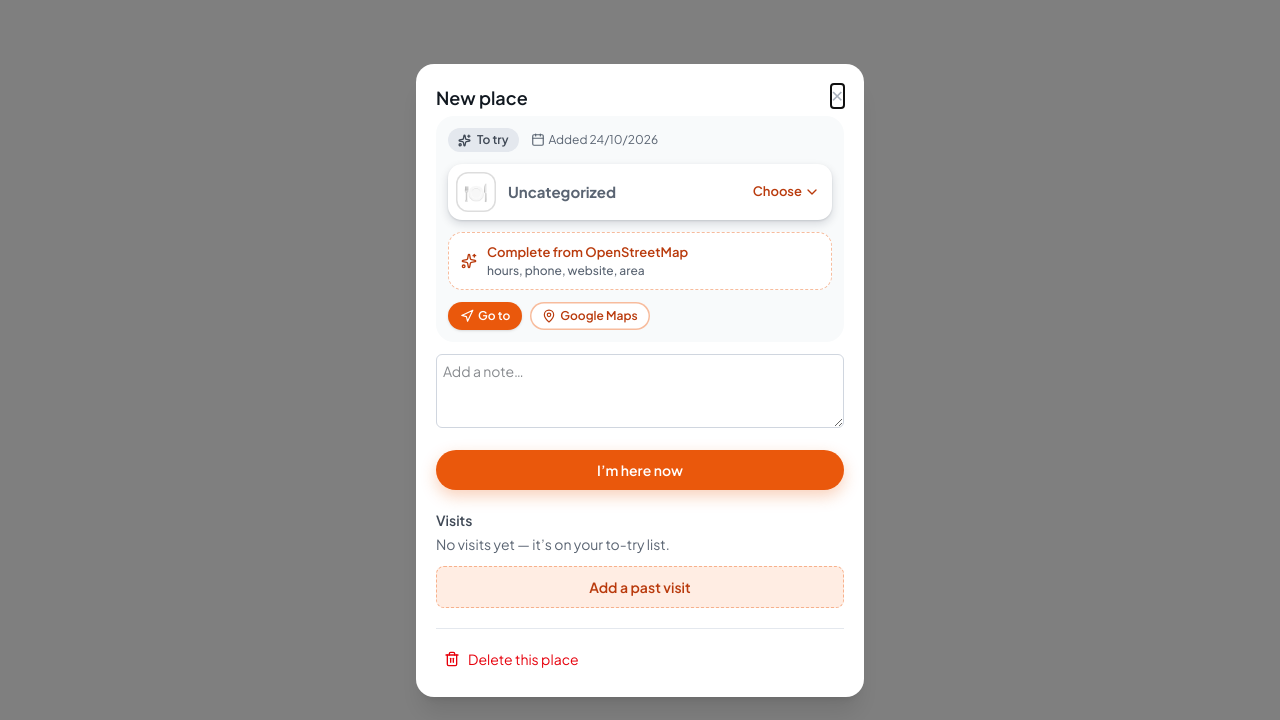
Test case: RestaurantDetail › requires a date again once "I don't remember when" is turned off
Step 1. Click the heading "Add a past visit" → {"x": 640, "y": 586}, box left=589, top=578, right=691, bottom=596
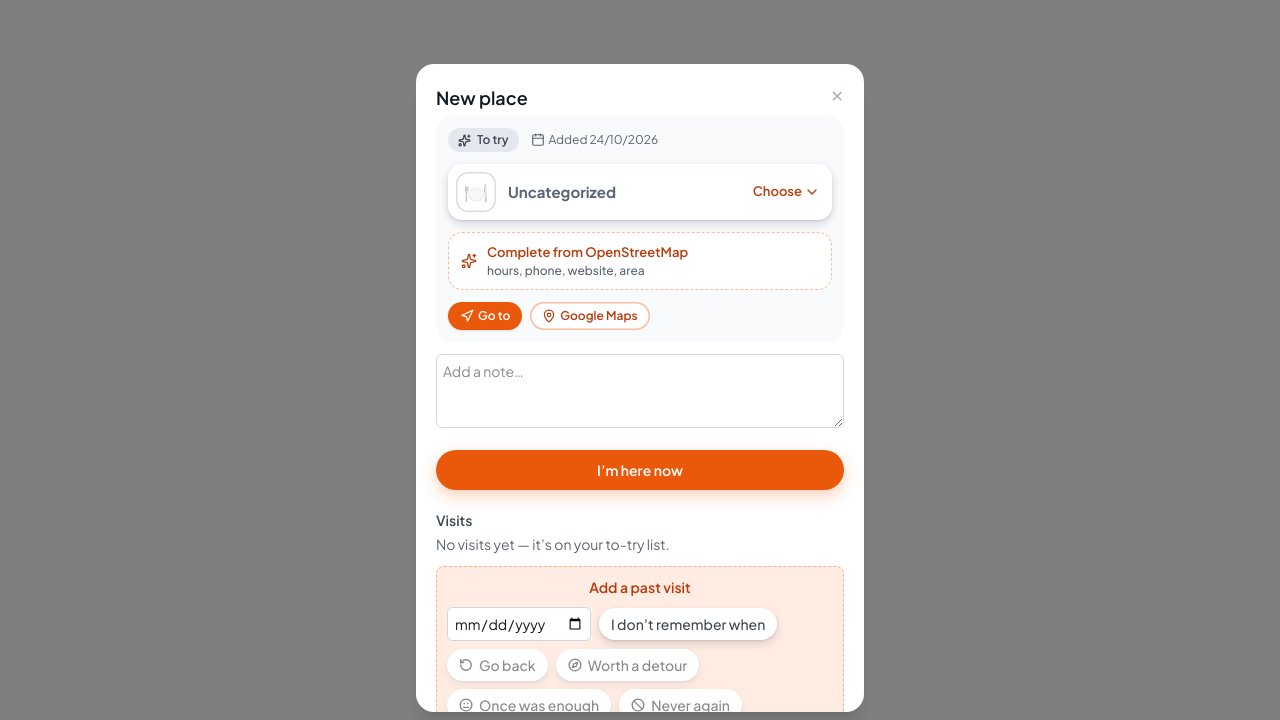
Step 2. Type "2026-01-15" into the date field named "Visit date" → {"x": 519, "y": 624}, box left=447, top=606, right=591, bottom=640
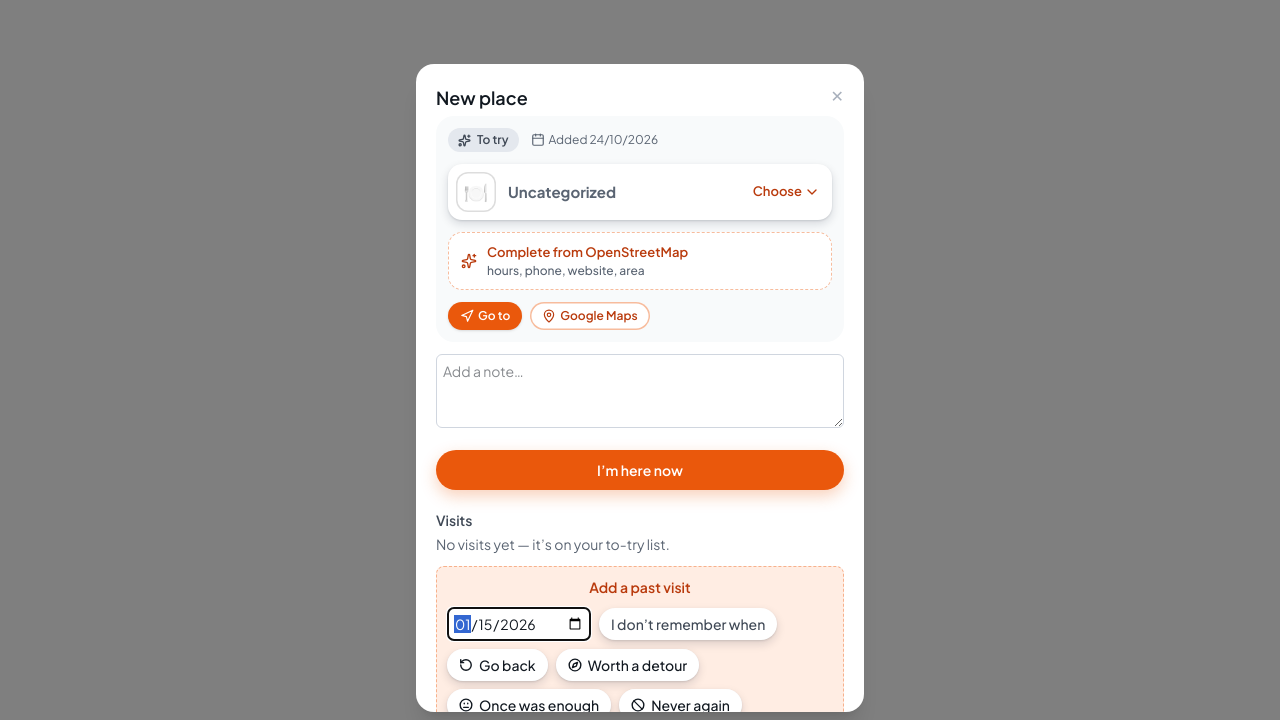
Step 3. Click the button "I don’t remember when" → {"x": 688, "y": 624}, box left=599, top=608, right=777, bottom=640
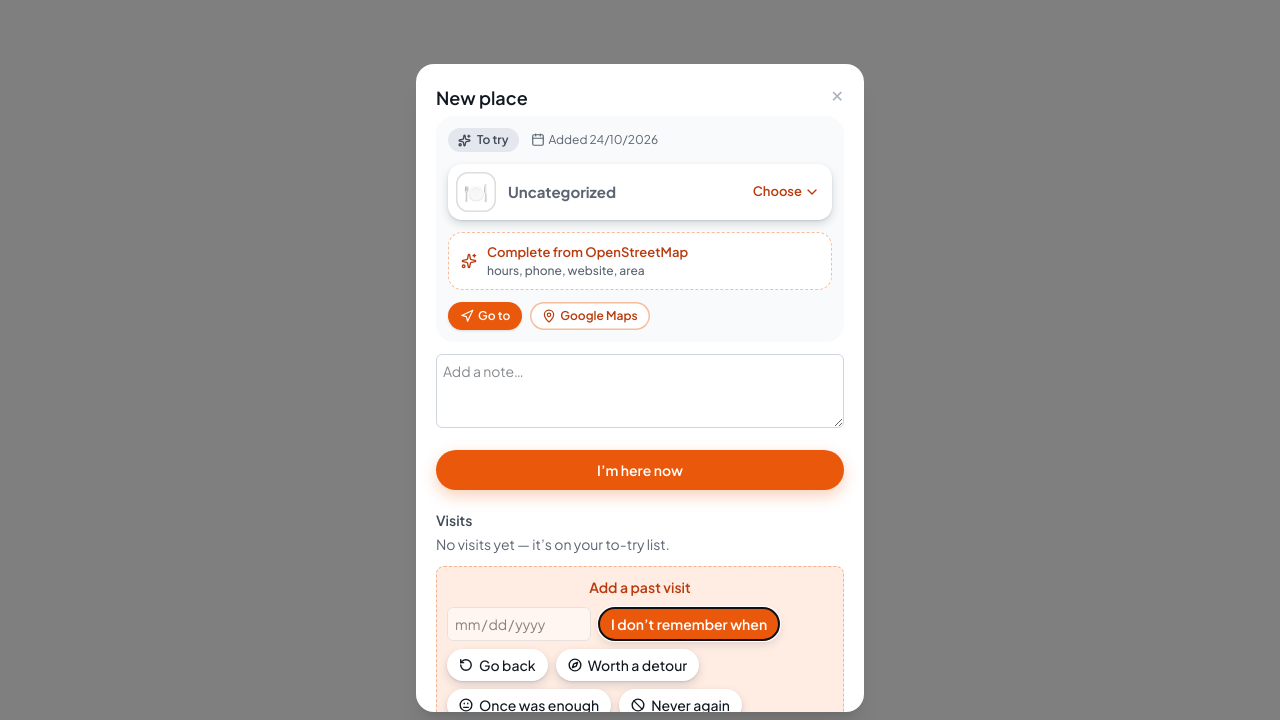
Step 4. Click the button "I don’t remember when" → {"x": 689, "y": 624}, box left=599, top=608, right=779, bottom=640
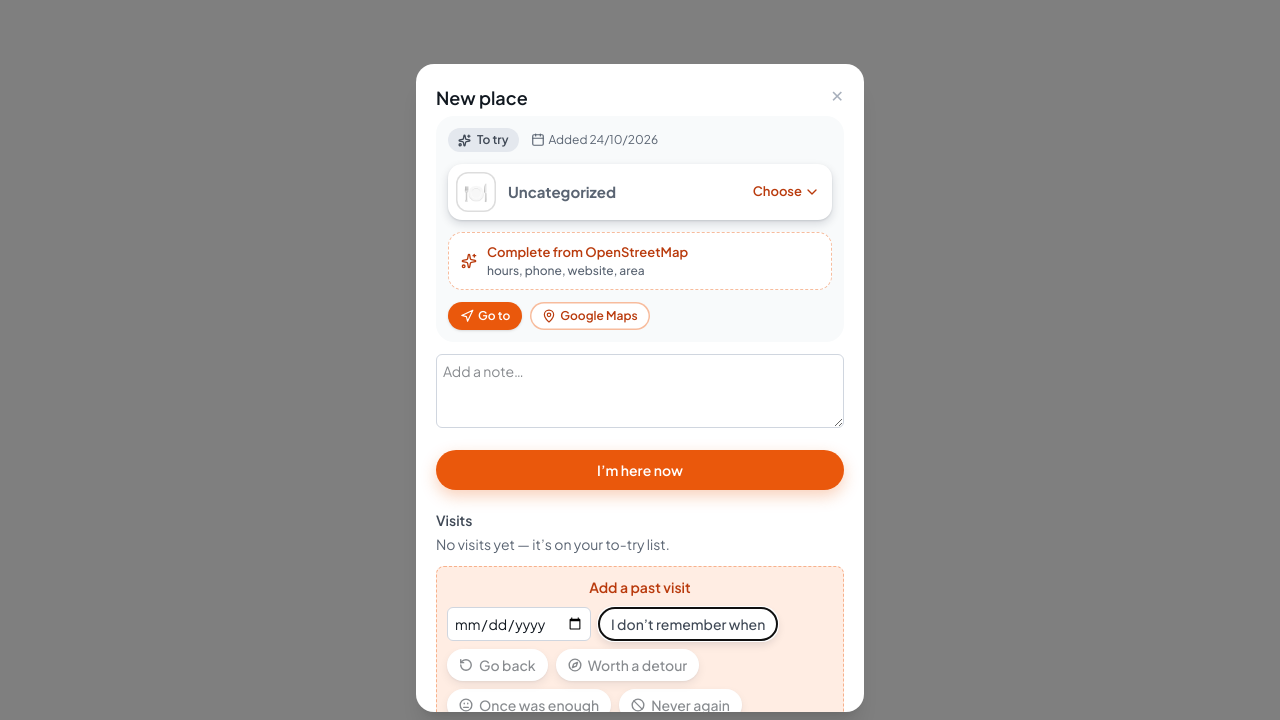
Check: the date field named "Visit date" is empty, box left=447, top=606, right=591, bottom=640
Check: the date field named "Visit date" is enabled, box left=447, top=606, right=591, bottom=640
Check: the button "Go back" is disabled, box left=447, top=648, right=548, bottom=680
